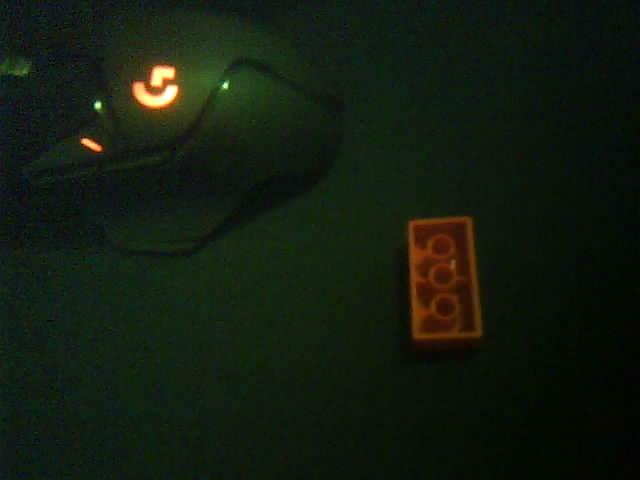lego: (406, 215, 484, 346)
